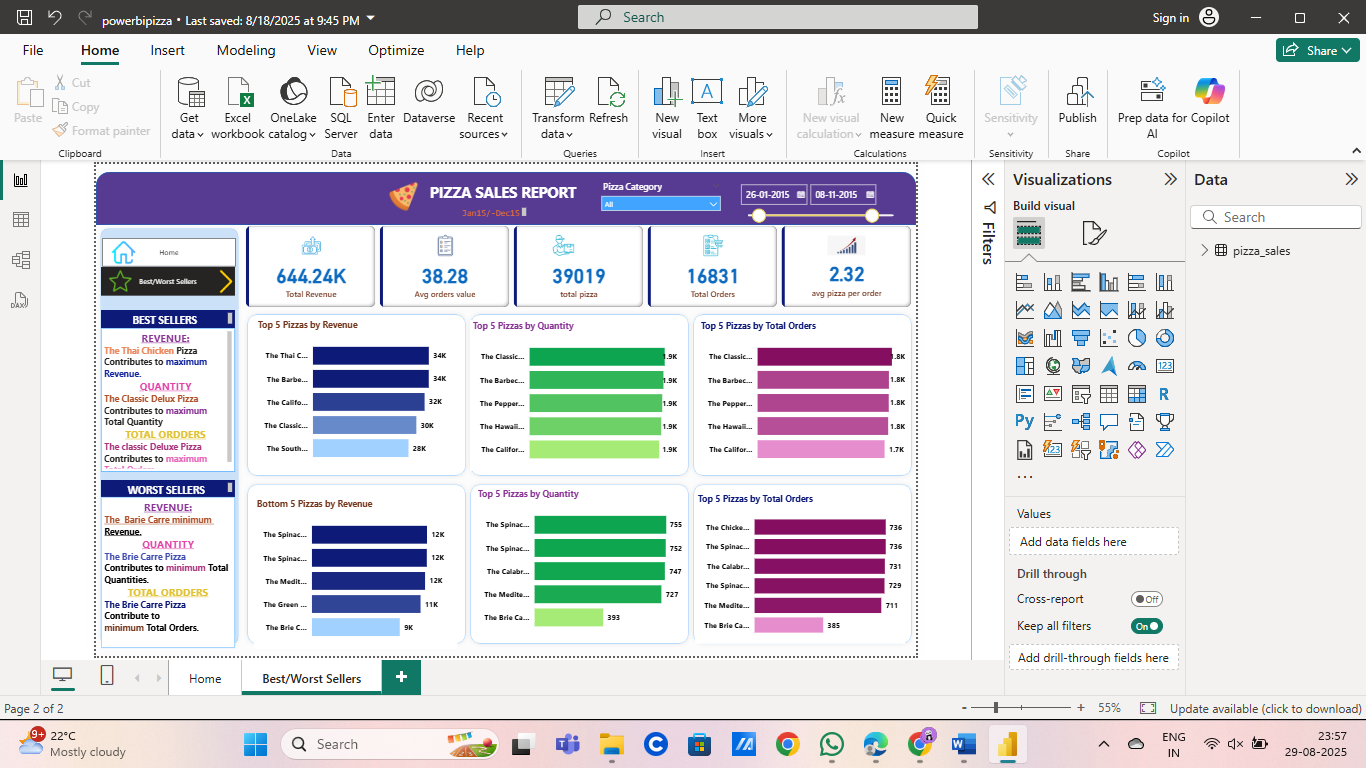

The page's visual inventory and layout, read from the dashboard file:
{"tool":"powerbi","page":{"name":"Best/Worst Sellers","canvas":[1500,900],"ordinal":1},"visuals":[{"type":"cardVisual","fields":{"Data":["pizza_sales.Total Revenue","pizza_sales.Avg orders value","pizza_sales.total pizza","pizza_sales.Total Orders","pizza_sales.avg pizza per order"]},"box":[268.9,107.9,1231.1,159.1],"z":0},{"type":"shape","box":[0,14.6,1500,97],"z":1000},{"type":"textbox","box":[574.4,27.4,340.2,56.7],"z":2000},{"type":"textbox","box":[664,75,128,32.9],"z":3000},{"type":"image","box":[519.5,27.4,86,64],"z":4000},{"type":"shape","box":[269.7,267.7,415.4,311],"z":5000},{"type":"shape","box":[0,109.8,268.6,778.4],"z":6000},{"type":"textbox","box":[9.8,266.7,245.1,33.3],"z":7000},{"type":"textbox","box":[9.8,300,245.1,262.7],"z":8000},{"type":"textbox","box":[9.8,609.8,245.1,276.5],"z":9000},{"type":"textbox","box":[9.8,578.4,245.1,31.4],"z":10000},{"type":"slicer","fields":{"Values":["pizza_sales.pizza_category"]},"box":[914.6,25.6,237.8,84.1],"z":11000},{"type":"slicer","fields":{"Values":["pizza_sales.order_date"]},"box":[1167.1,27.4,312.8,80.5],"z":12000},{"type":"shape","box":[676.8,267.1,415.2,311],"z":13000},{"type":"shape","box":[1084.8,267.1,415.2,311],"z":14000},{"type":"shape","box":[268.9,578,415.2,307.3],"z":15000},{"type":"shape","box":[676.8,578,415.2,307.3],"z":16000},{"type":"shape","box":[1084.8,578,415.2,307.3],"z":17000},{"type":"barChart","title":"Top 5 Pizzas by Revenue","fields":{"Category":["pizza_sales.pizza_name"],"Y":["pizza_sales.Total Revenue"]},"box":[291.3,283.5,372,275.6],"z":18000},{"type":"barChart","title":"Bottom 5 Pizzas by Revenue","fields":{"Category":["pizza_sales.pizza_name"],"Y":["pizza_sales.Total Revenue"]},"box":[289.4,610.2,372,275.6],"z":19000},{"type":"barChart","title":"Top 5 Pizzas by Quantity","fields":{"Category":["pizza_sales.pizza_name"],"Y":["pizza_sales.total pizza"]},"box":[684.1,285.4,384.1,276.2],"z":20000},{"type":"barChart","title":"Top 5 Pizzas by Quantity","fields":{"Category":["pizza_sales.pizza_name"],"Y":["pizza_sales.total pizza"]},"box":[693.3,592.7,384.1,276.2],"z":21000},{"type":"barChart","title":"Top 5 Pizzas by Total Orders","fields":{"Category":["pizza_sales.pizza_name"],"Y":["pizza_sales.Total Orders"]},"box":[1100.4,285.4,383.9,275.6],"z":22000},{"type":"barChart","title":"Top 5 Pizzas by Total Orders","fields":{"Category":["pizza_sales.pizza_name"],"Y":["pizza_sales.Total Orders"]},"box":[1096.5,602.4,383.9,275.6],"z":23000},{"type":"pageNavigator","box":[9.8,188.2,245.1,52.9],"z":24000},{"type":"pageNavigator","box":[11.8,135.3,245.1,52.9],"z":25000},{"type":"image","box":[205.9,188.2,62.7,52.9],"z":26000},{"type":"image","box":[11.8,135.3,78.4,52.9],"z":27000},{"type":"image","box":[0,188.2,88.2,51],"z":28000}]}

Visuals, with their boxes on the page's 1500x900 design canvas (x1, y1, x2, y2). These are canvas units, not pixel positions in the 1366x768 screenshot, which may show the page scaled, cropped or inside an application window:
cardVisual - pizza_sales.Total Revenue x pizza_sales.Avg orders value: bbox=[269, 108, 1500, 267]
shape: bbox=[0, 15, 1500, 112]
textbox: bbox=[574, 27, 915, 84]
textbox: bbox=[664, 75, 792, 108]
image: bbox=[520, 27, 606, 91]
shape: bbox=[270, 268, 685, 579]
shape: bbox=[0, 110, 269, 888]
textbox: bbox=[10, 267, 255, 300]
textbox: bbox=[10, 300, 255, 563]
textbox: bbox=[10, 610, 255, 886]
textbox: bbox=[10, 578, 255, 610]
slicer - pizza_sales.pizza_category: bbox=[915, 26, 1152, 110]
slicer - pizza_sales.order_date: bbox=[1167, 27, 1480, 108]
shape: bbox=[677, 267, 1092, 578]
shape: bbox=[1085, 267, 1500, 578]
shape: bbox=[269, 578, 684, 885]
shape: bbox=[677, 578, 1092, 885]
shape: bbox=[1085, 578, 1500, 885]
"Top 5 Pizzas by Revenue" barChart: bbox=[291, 284, 663, 559]
"Bottom 5 Pizzas by Revenue" barChart: bbox=[289, 610, 661, 886]
"Top 5 Pizzas by Quantity" barChart: bbox=[684, 285, 1068, 562]
"Top 5 Pizzas by Quantity" barChart: bbox=[693, 593, 1077, 869]
"Top 5 Pizzas by Total Orders" barChart: bbox=[1100, 285, 1484, 561]
"Top 5 Pizzas by Total Orders" barChart: bbox=[1096, 602, 1480, 878]
pageNavigator: bbox=[10, 188, 255, 241]
pageNavigator: bbox=[12, 135, 257, 188]
image: bbox=[206, 188, 269, 241]
image: bbox=[12, 135, 90, 188]
image: bbox=[0, 188, 88, 239]
